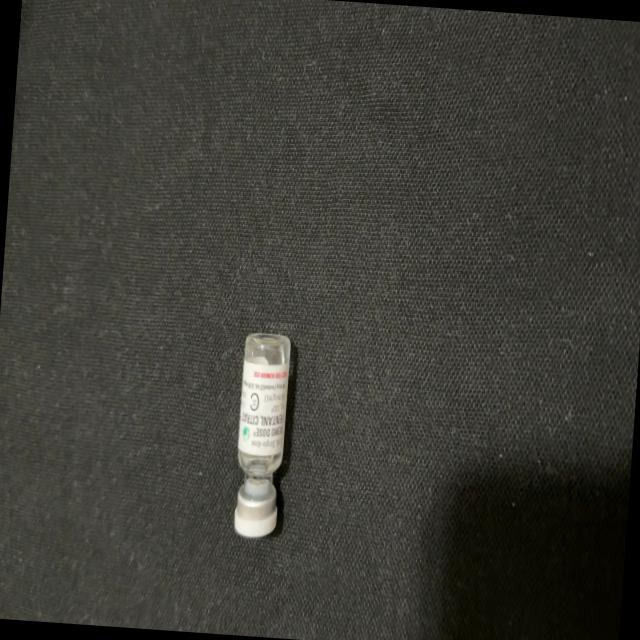fentanl_citrat: (232, 335, 292, 536)
